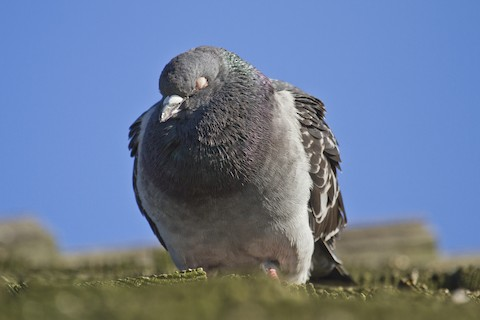pigeon: (122, 42, 364, 290)
